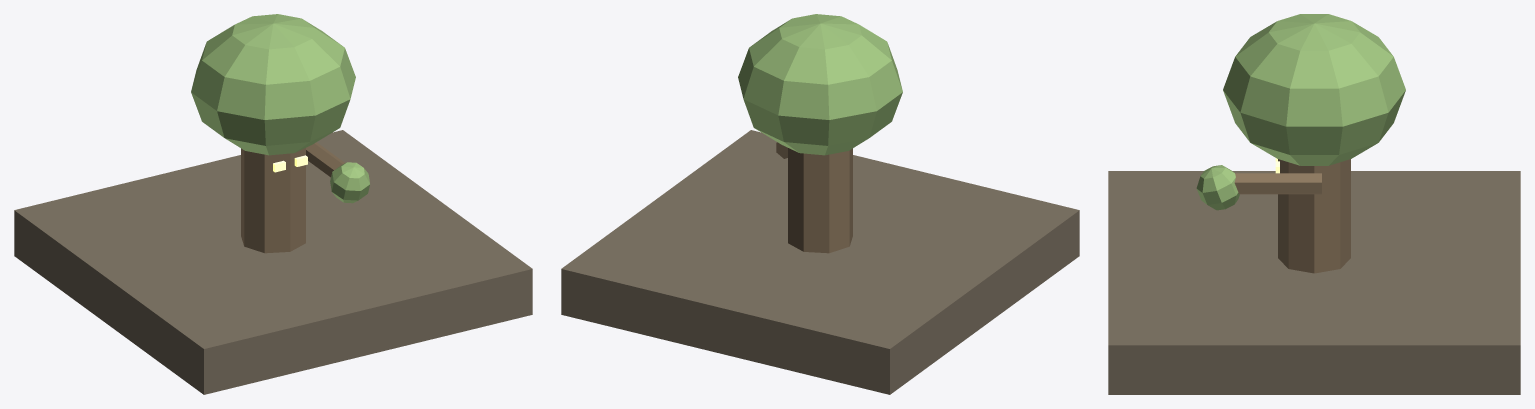
The model's file is elf_treant.glb.
The picture shows the model from 3 angles, left to right: view 1: azimuth 30°, elevation 25°; view 2: azimuth 150°, elevation 25°; view 3: azimuth 270°, elevation 25°; orthographic projection. The views are drawn at different scales.
Visible parts, largest first — view 1: Base, TurretMesh, BranchMesh; view 2: Base, TurretMesh; view 3: Base, TurretMesh, BranchMesh.
Boxes of the visible parts, x1,y1,x2,y2 form: Base: (14,130,532,394); TurretMesh: (191,14,355,253); BranchMesh: (306,142,370,203); Base: (561,130,1079,394); TurretMesh: (738,14,902,253); Base: (1108,171,1520,394); TurretMesh: (1223,14,1405,273); BranchMesh: (1196,165,1321,210).
Bounding box in the file's own units: 1.8 × 1.37 × 1.8.
